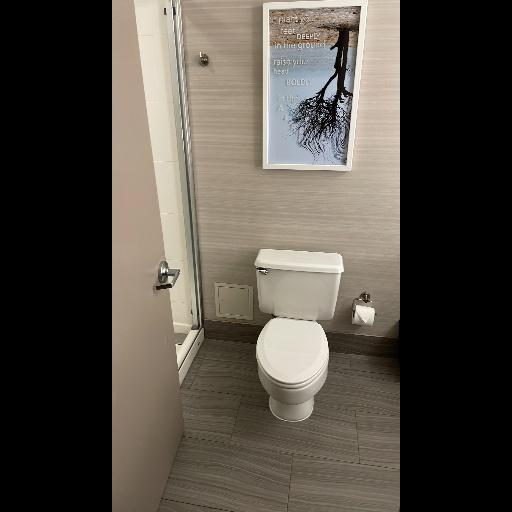clean_floor: (158, 337, 399, 509)
clean_toilet: (255, 245, 344, 420)
